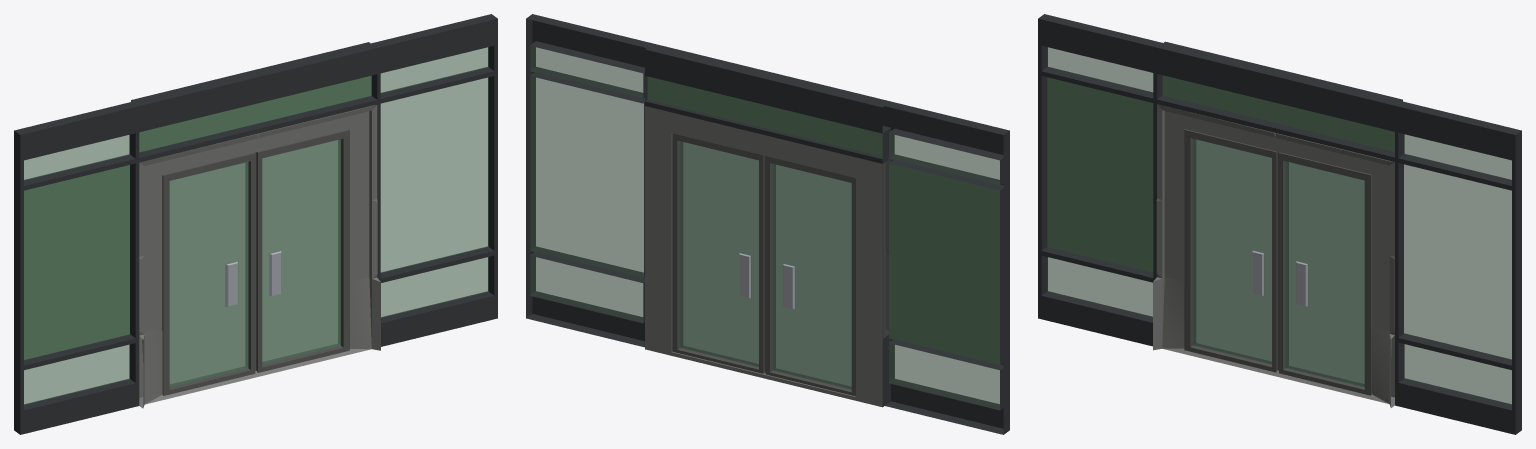
Rendered from door_revize.fbx.
The picture shows the model from 3 angles, left to right: view 1: azimuth 30°, elevation 25°; view 2: azimuth 150°, elevation 25°; view 3: azimuth 330°, elevation 25°; orthographic projection.
Visible parts, largest first — view 1: door, Door_01, Door_002; view 2: door, Door_002, Door_01; view 3: door, Door_01, Door_002.
Boxes of the visible parts, left/top/right/bottom form: door: left=14, top=14, right=497, bottom=434; Door_01: left=162, top=152, right=256, bottom=395; Door_002: left=256, top=129, right=349, bottom=372; door: left=526, top=14, right=1009, bottom=434; Door_002: left=672, top=133, right=765, bottom=373; Door_01: left=765, top=156, right=855, bottom=396; door: left=1038, top=14, right=1521, bottom=434; Door_01: left=1184, top=129, right=1279, bottom=372; Door_002: left=1279, top=152, right=1371, bottom=395.
Size of the model in its own units: 379 by 228 by 16.67.
Materials: 2 (2 with a texture image).
